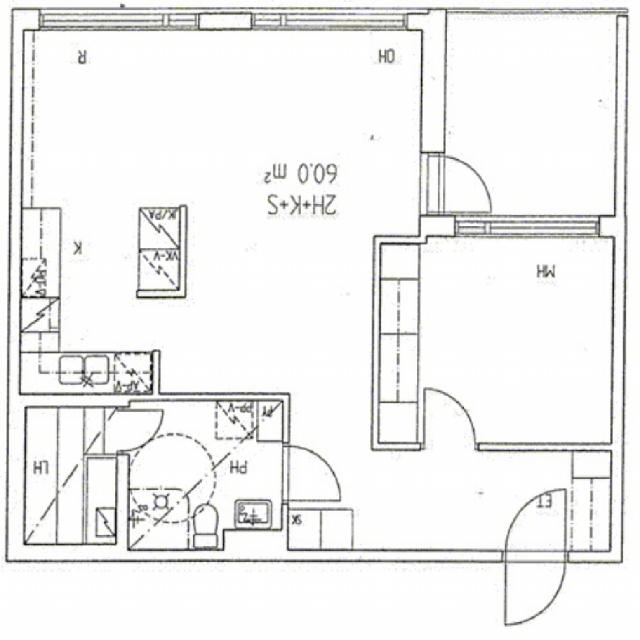door: (506, 550, 564, 626), (506, 487, 564, 562), (422, 156, 496, 212), (280, 446, 339, 500), (424, 388, 474, 450), (117, 410, 167, 450)
